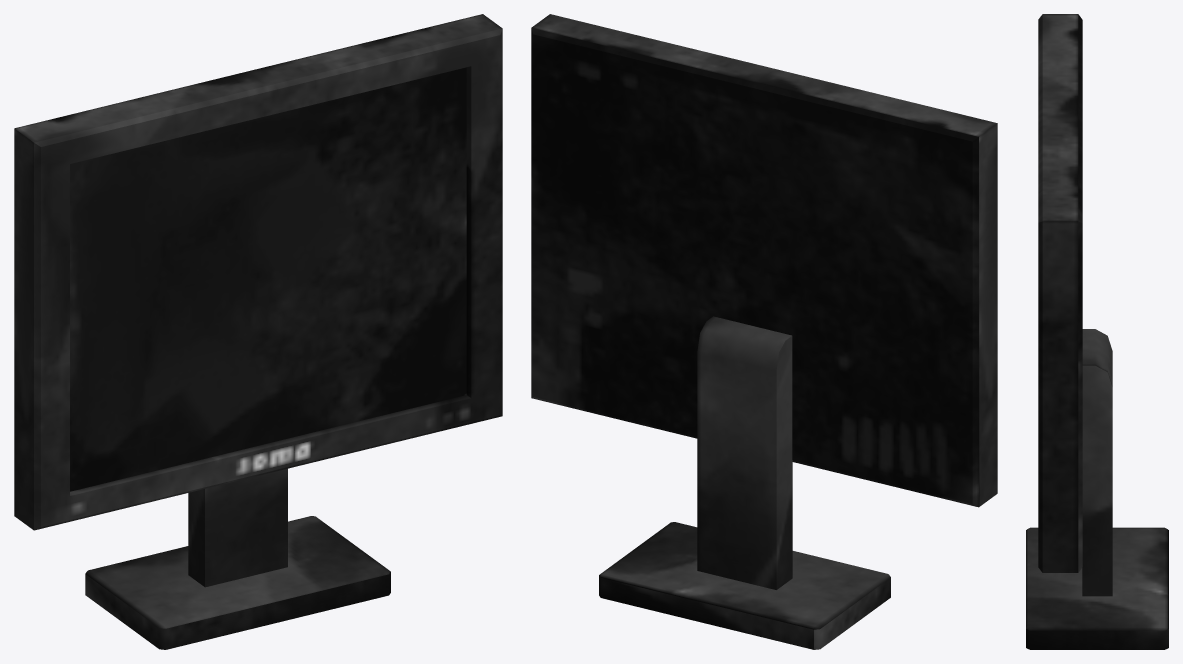
Rendered from Monitor_Asset.fbx.
3 views of the same model, side by side, from view 1: azimuth 30°, elevation 25°; view 2: azimuth 150°, elevation 25°; view 3: azimuth 270°, elevation 25° (orthographic). The views are drawn at different scales.
Visible parts, largest first — view 1: Monitor; view 2: Monitor; view 3: Monitor.
Part boxes in pixels (x1=…): Monitor: x1=14, y1=14, x2=502, y2=649; Monitor: x1=531, y1=14, x2=997, y2=649; Monitor: x1=1026, y1=14, x2=1168, y2=649.
Bounding box in the file's own units: 43.71 × 12.71 × 47.29.
